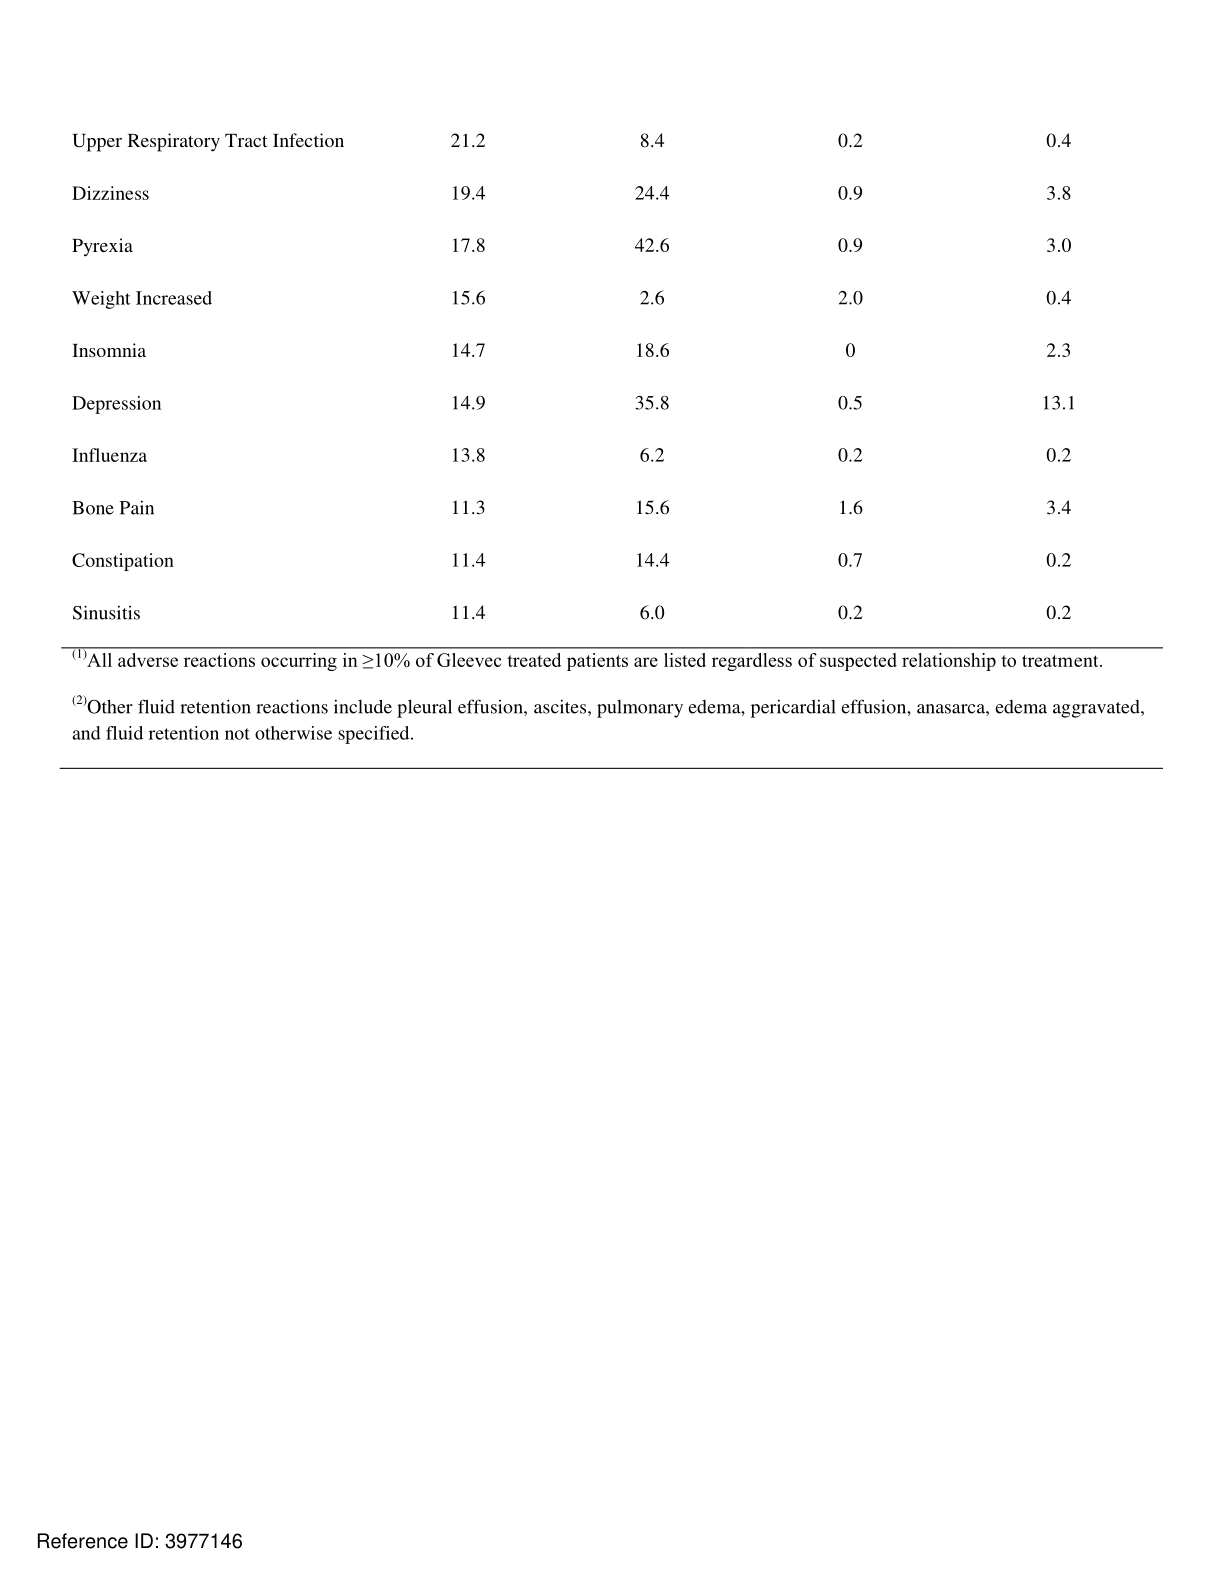nolines: (67, 118, 1085, 629)
